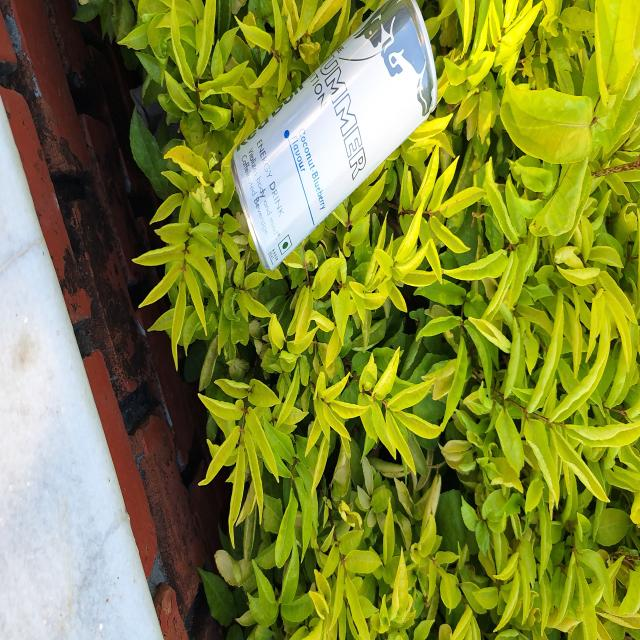Redbull Summer Edition: (226, 0, 437, 280)
